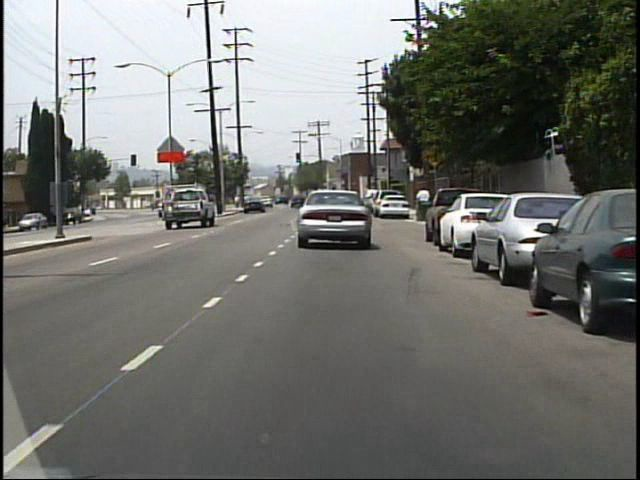person: (414, 182, 432, 224)
